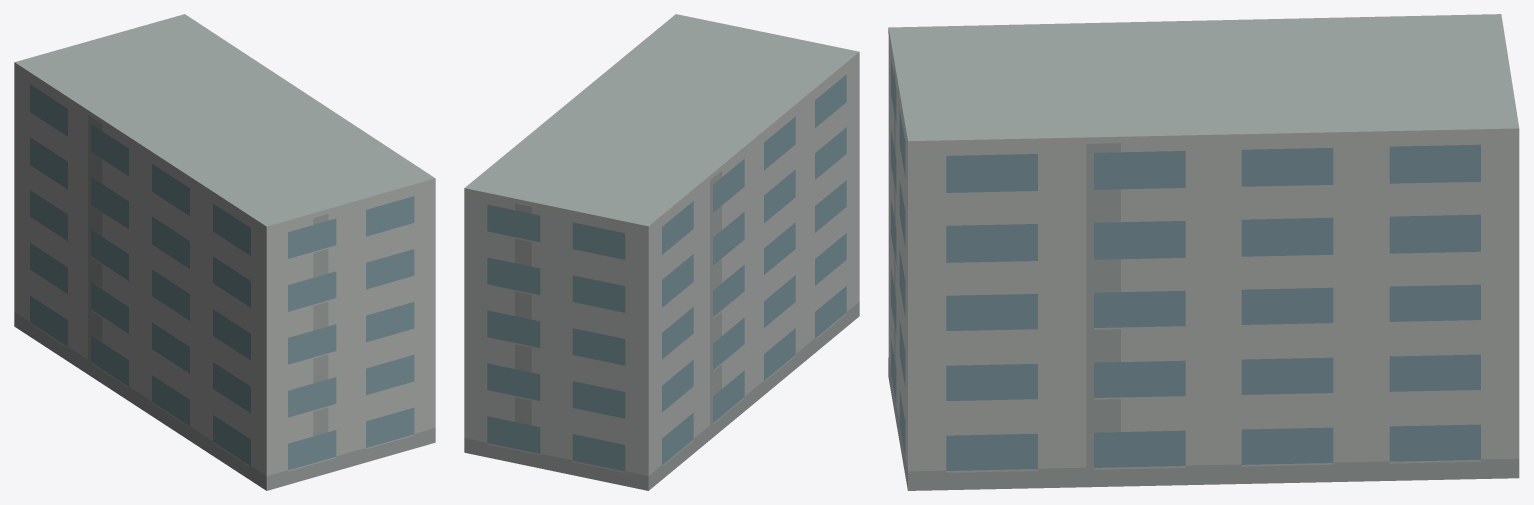
File: survey-upis-32577429.glb
3 renders of one model, left to right at view 1: azimuth 30°, elevation 25°; view 2: azimuth 150°, elevation 25°; view 3: azimuth 270°, elevation 25°, orthographic. The views are drawn at different scales.
Parts seen in each view (by area): view 1: survey-upis-32577429.tmp; view 2: survey-upis-32577429.tmp; view 3: survey-upis-32577429.tmp.
Part boxes in pixels (<box>): survey-upis-32577429.tmp: <box>14,14,435,490</box>; survey-upis-32577429.tmp: <box>464,14,859,490</box>; survey-upis-32577429.tmp: <box>888,14,1519,490</box>.
Bounding box in the file's own units: 10.38 × 13.3 × 21.75.
